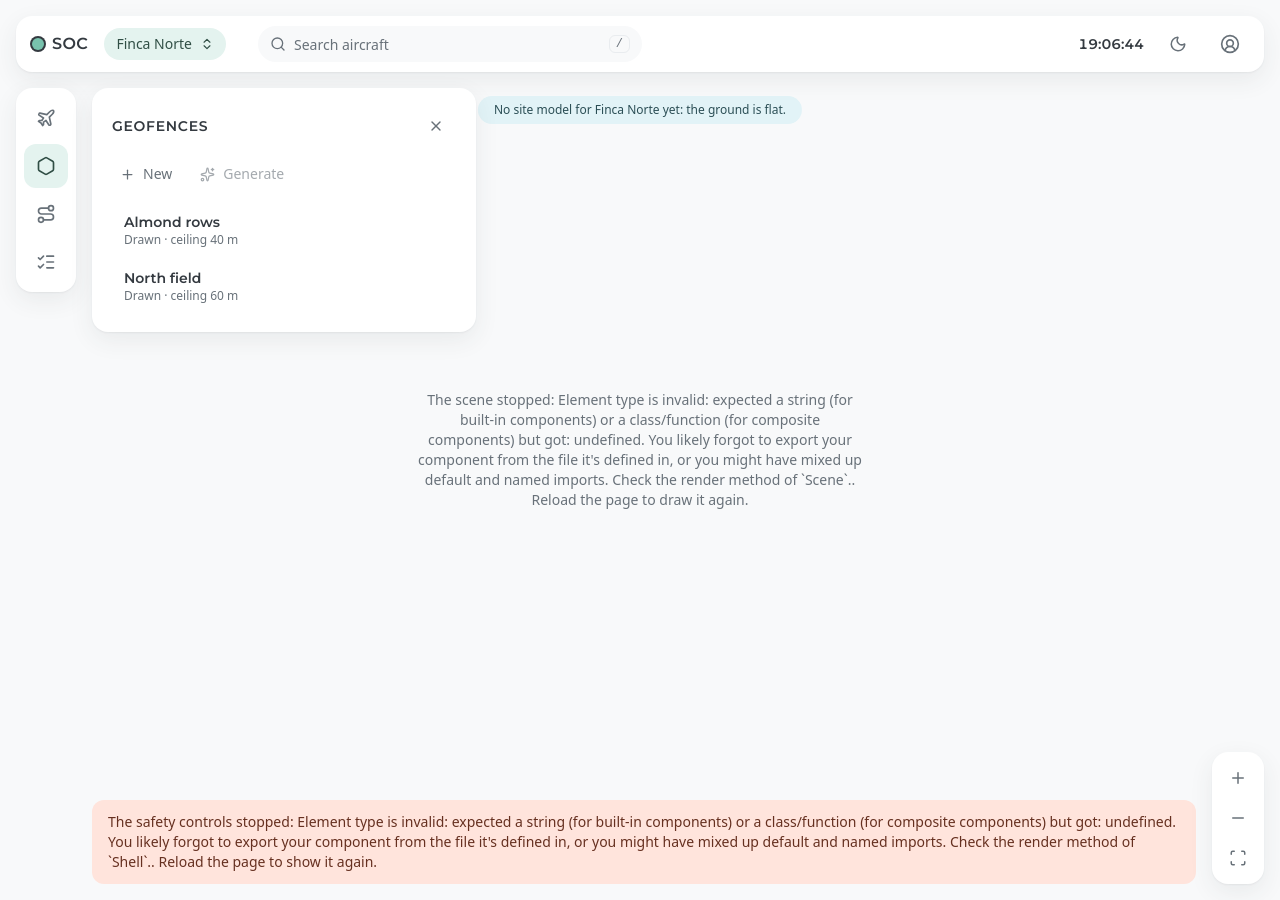
the geofence panel (FR-GEO-02) › selects a geofence into the URL, and shows its figures in the inspector
Expected: the header is shown, x1=16 y1=16 x2=1264 y2=72
Step 1. Click the button "North field Drawn · ceiling 60 m" → (163, 278), box x1=112 y1=260 x2=456 y2=312
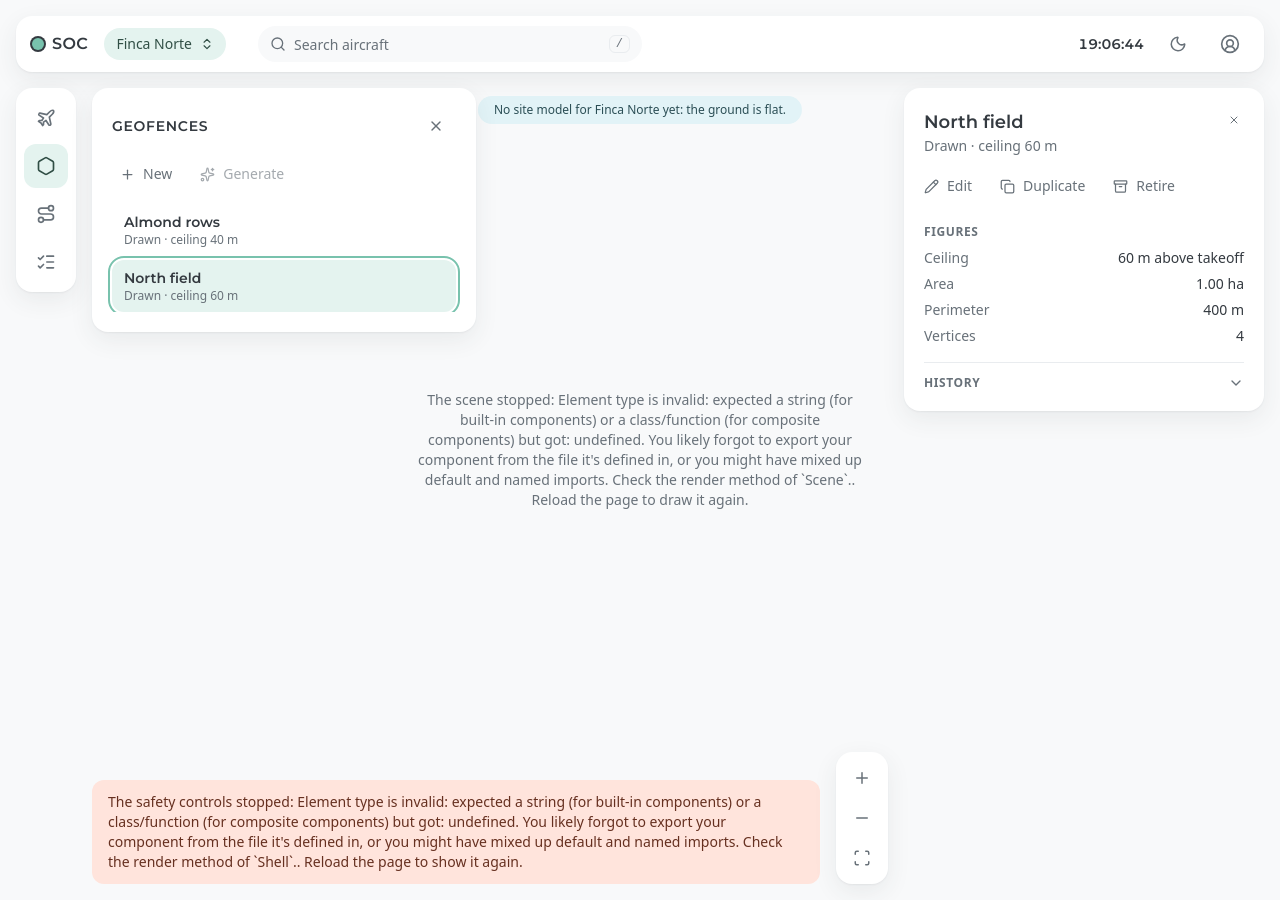
Now the heading "North field" is shown, box x1=924 y1=111 x2=1024 y2=133
Now the text "1.00 ha" is shown, box x1=1196 y1=274 x2=1244 y2=293
Now the text "400 m" is shown, box x1=1203 y1=300 x2=1244 y2=319
